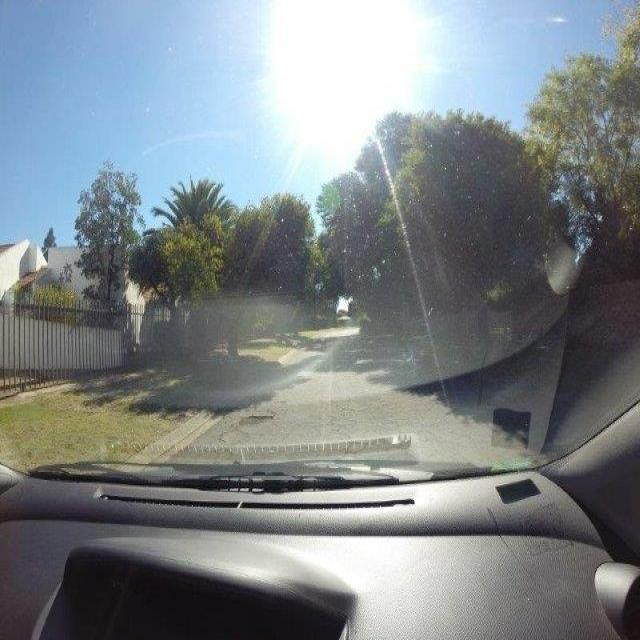lubang: (226, 406, 282, 431)
